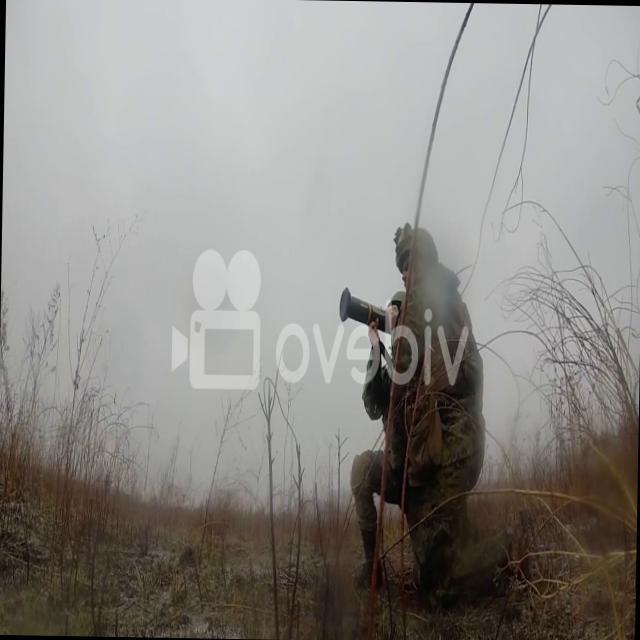rocket: (338, 284, 392, 337)
